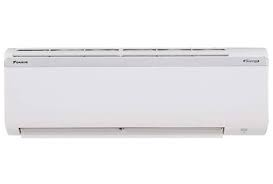ac: (2, 43, 273, 138)
